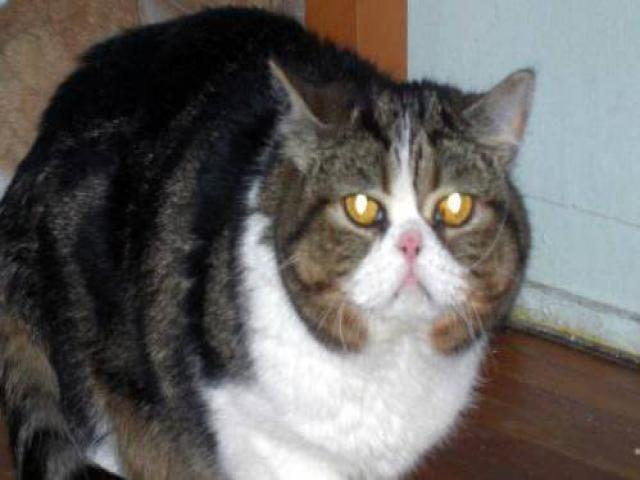cat: (3, 2, 548, 479)
